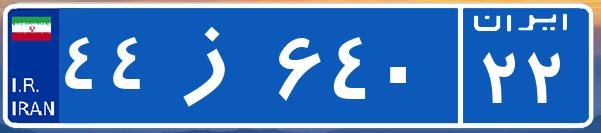0: (385, 28, 445, 110)
2: (475, 38, 525, 113), (525, 38, 570, 115)
4: (330, 28, 385, 110), (57, 26, 110, 107), (110, 28, 158, 105)
6: (273, 28, 330, 110)
ز: (158, 15, 273, 115)
